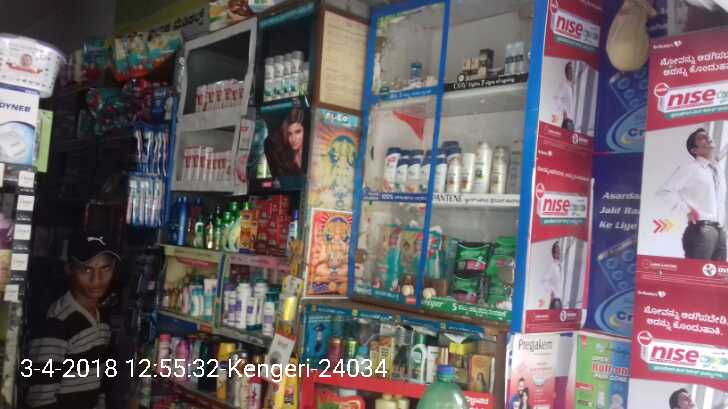oralcare: (128, 90, 175, 223)
vicks: (407, 60, 429, 86)
